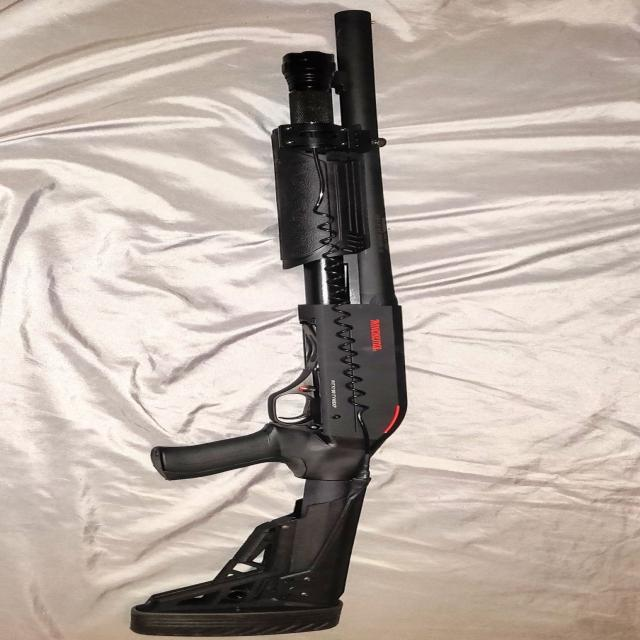ShotGun: (130, 11, 407, 639)
